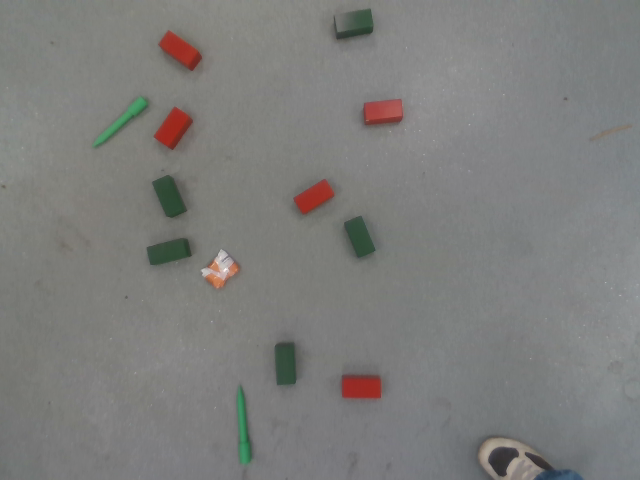Probe: (89, 93, 151, 150), (233, 380, 255, 466)
